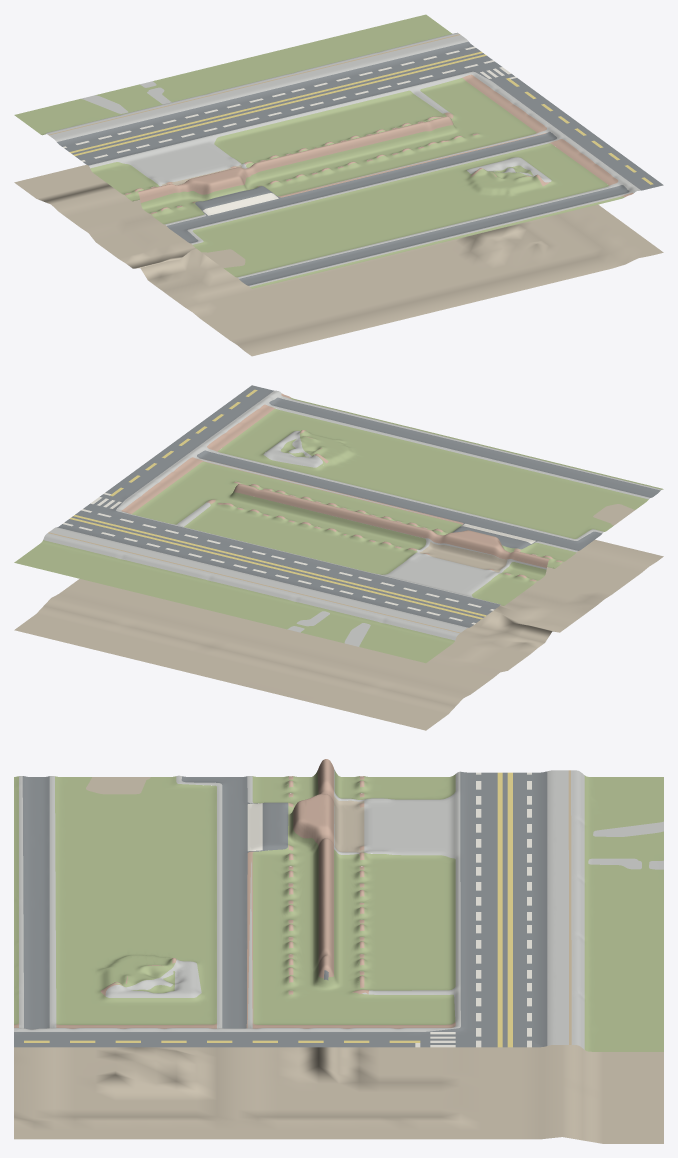
3 views of the same model, one above another, from view 1: azimuth 30°, elevation 25°; view 2: azimuth 150°, elevation 25°; view 3: azimuth 270°, elevation 25° (orthographic). The views are drawn at different scales.
Visible parts, largest first — view 1: s_-6_-6__grass, s_-6_-6__soil, s_-6_-6__asphalt, s_-6_-6__stone_paving, s_-6_-6__brick_paving, s_-6_-6__yellow_marking, s_-6_-6__white_marking, s_-6_-6__timber_deck; view 2: s_-6_-6__grass, s_-6_-6__soil, s_-6_-6__asphalt, s_-6_-6__stone_paving, s_-6_-6__brick_paving, s_-6_-6__yellow_marking, s_-6_-6__white_marking, s_-6_-6__timber_deck; view 3: s_-6_-6__grass, s_-6_-6__soil, s_-6_-6__asphalt, s_-6_-6__stone_paving, s_-6_-6__brick_paving, s_-6_-6__yellow_marking, s_-6_-6__white_marking, s_-6_-6__timber_deck.
Part boxes in pixels (bbox=[...]): s_-6_-6__grass: bbox=[14, 14, 624, 288]; s_-6_-6__soil: bbox=[14, 121, 663, 356]; s_-6_-6__asphalt: bbox=[57, 41, 663, 285]; s_-6_-6__stone_paving: bbox=[46, 32, 640, 286]; s_-6_-6__brick_paving: bbox=[125, 74, 633, 217]; s_-6_-6__yellow_marking: bbox=[69, 51, 653, 184]; s_-6_-6__white_marking: bbox=[63, 46, 516, 215]; s_-6_-6__timber_deck: bbox=[48, 34, 460, 135]; s_-6_-6__grass: bbox=[14, 397, 663, 663]; s_-6_-6__soil: bbox=[14, 481, 663, 730]; s_-6_-6__asphalt: bbox=[57, 385, 660, 627]; s_-6_-6__stone_paving: bbox=[43, 390, 661, 646]; s_-6_-6__brick_paving: bbox=[121, 393, 562, 581]; s_-6_-6__yellow_marking: bbox=[69, 389, 486, 619]; s_-6_-6__white_marking: bbox=[63, 493, 535, 624]; s_-6_-6__timber_deck: bbox=[48, 532, 460, 633]; s_-6_-6__grass: bbox=[14, 770, 663, 1051]; s_-6_-6__soil: bbox=[14, 777, 663, 1143]; s_-6_-6__asphalt: bbox=[14, 771, 547, 1047]; s_-6_-6__stone_paving: bbox=[14, 769, 663, 1049]; s_-6_-6__brick_paving: bbox=[14, 759, 455, 1028]; s_-6_-6__yellow_marking: bbox=[24, 772, 512, 1047]; s_-6_-6__white_marking: bbox=[247, 772, 531, 1047]; s_-6_-6__timber_deck: bbox=[568, 770, 571, 1044].
Bounding box in the file's own units: 128 × 24.01 × 128.
